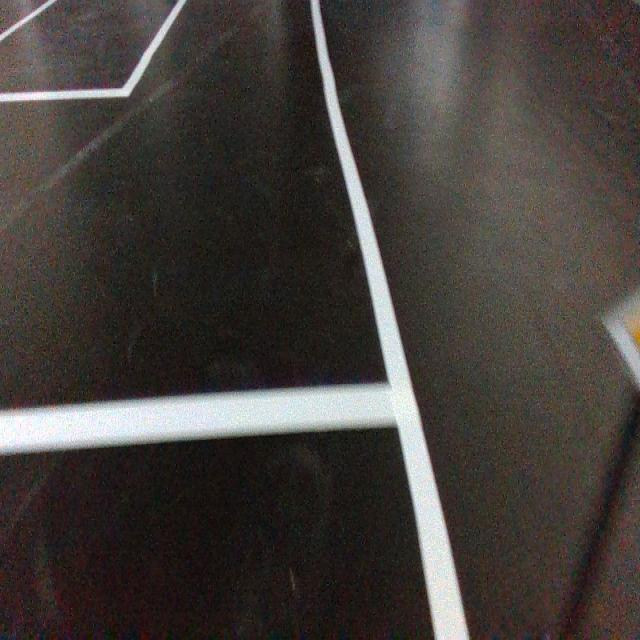priority-sign: (596, 281, 640, 401)
